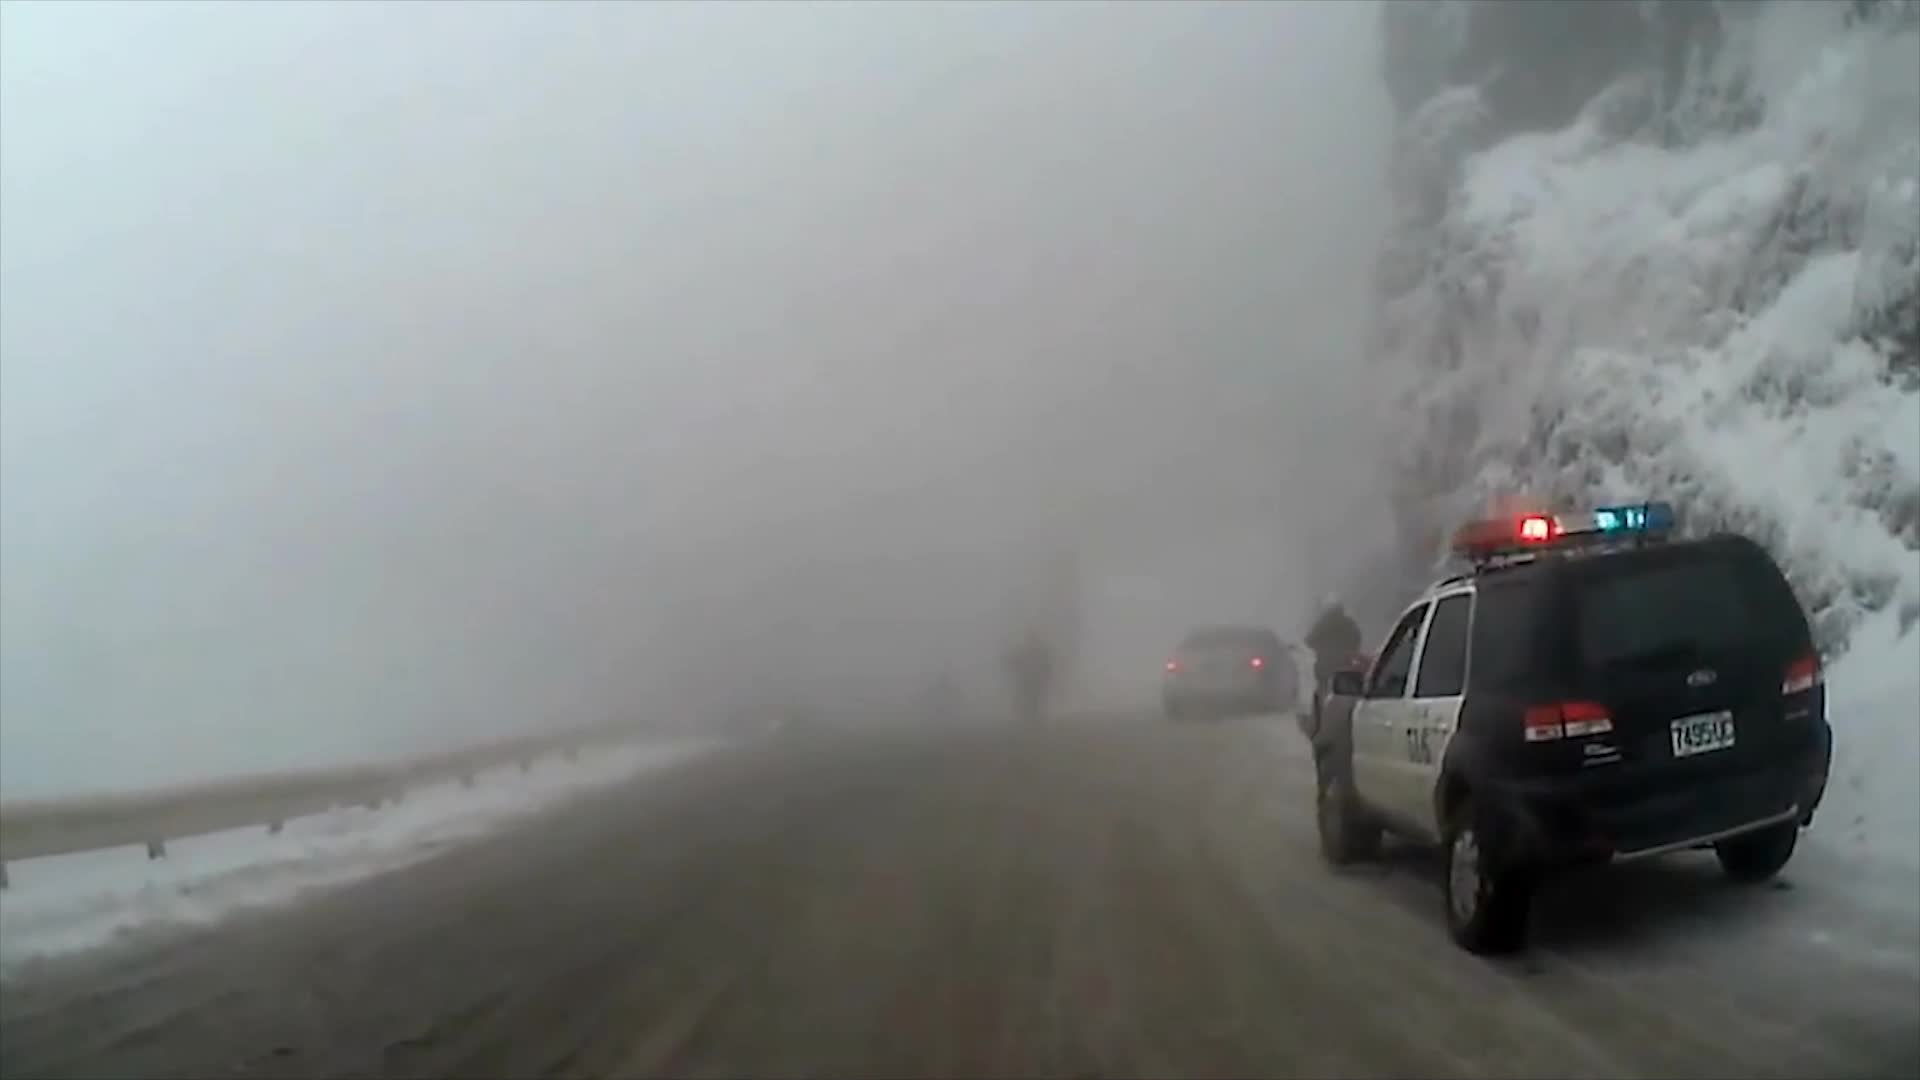pedestrian: (1302, 593, 1368, 752)
vehicle: (1308, 499, 1838, 953), (1158, 621, 1297, 720)
